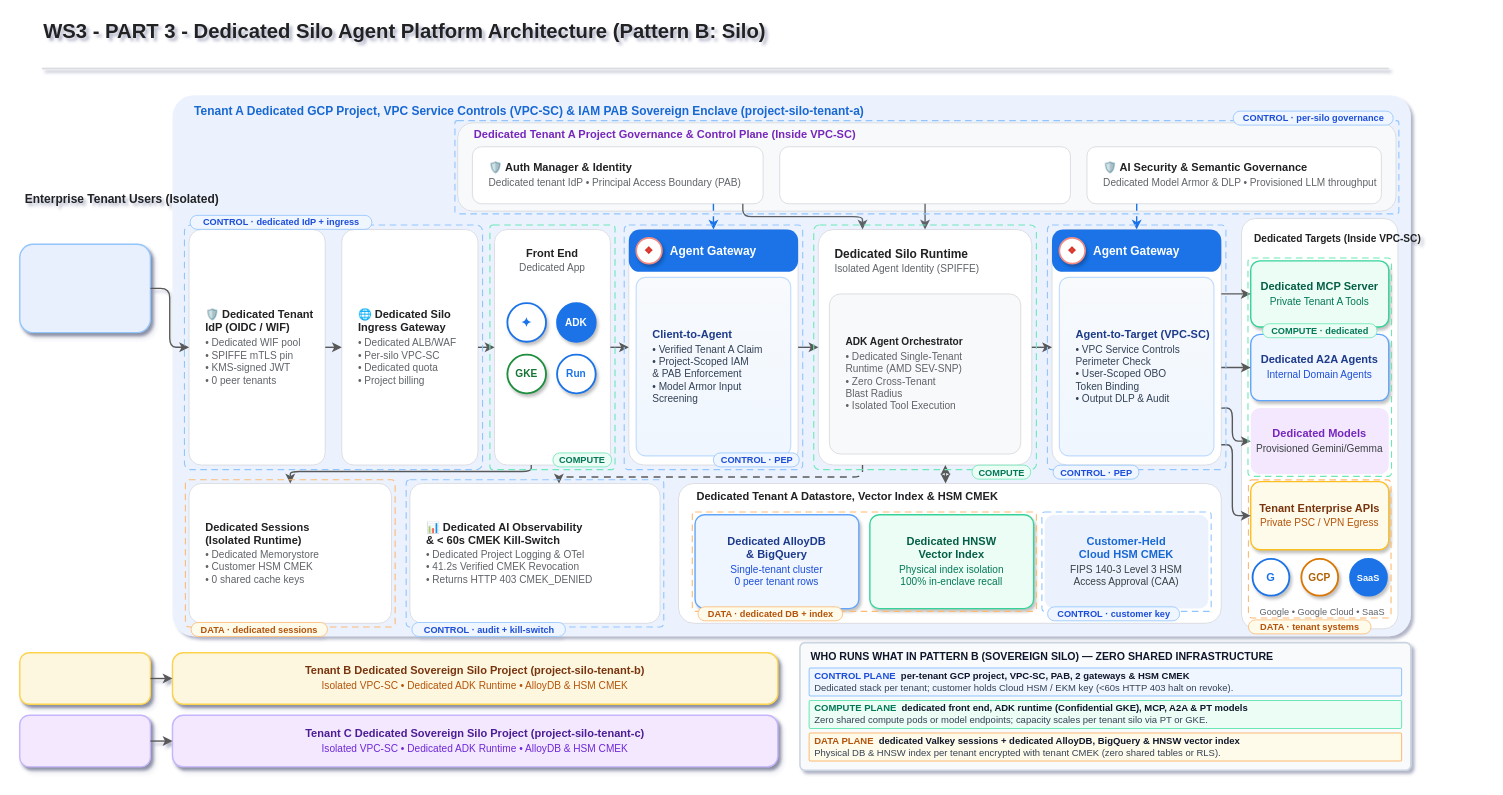
The diagram is 1503 pixels wide and 795 high, and some of its shapes have lost their labels. Here are the shapes that lost their labels. From the top down, the centre of each, then its label:
At point 924,175: "⚙️ Agent Registry Dedicated tenant catalog • Isolated tool & endpoint registry".
At point 85,289: "Tenant A Users Dedicated Silo Project A".
At point 85,679: "Tenant B Users Silo Project B".
At point 85,742: "Tenant C Users Silo Project C".
